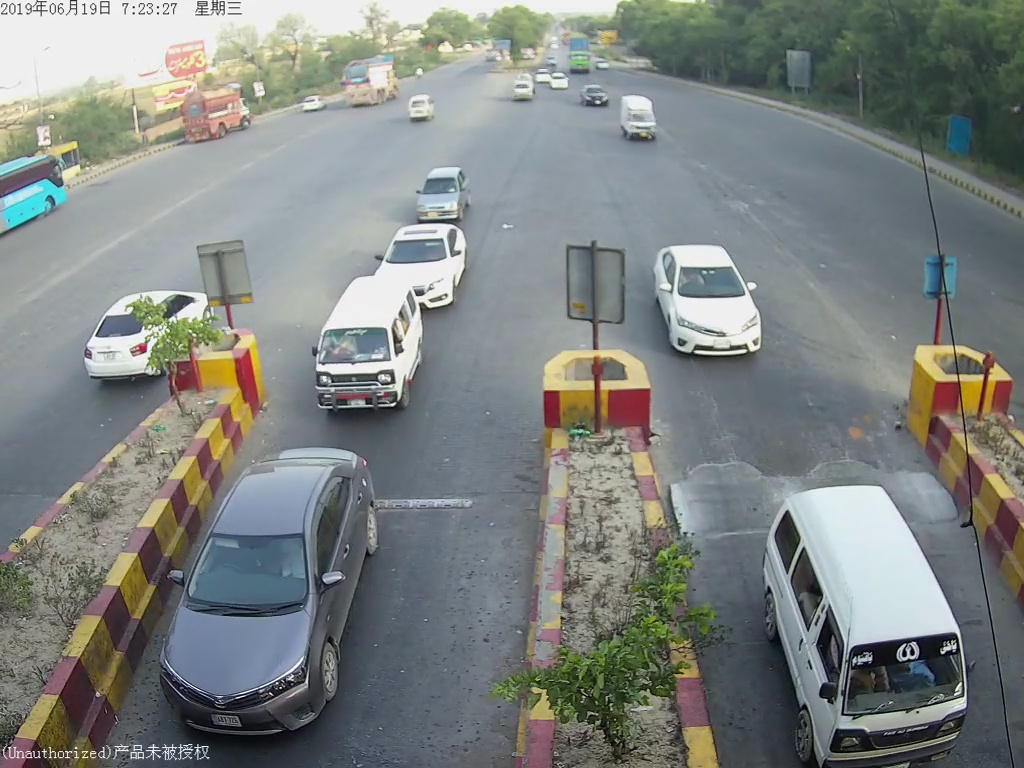Cat-1: (160, 453, 429, 736), (759, 495, 995, 768), (641, 228, 774, 367), (309, 279, 427, 421), (377, 226, 464, 276), (415, 172, 467, 217)
